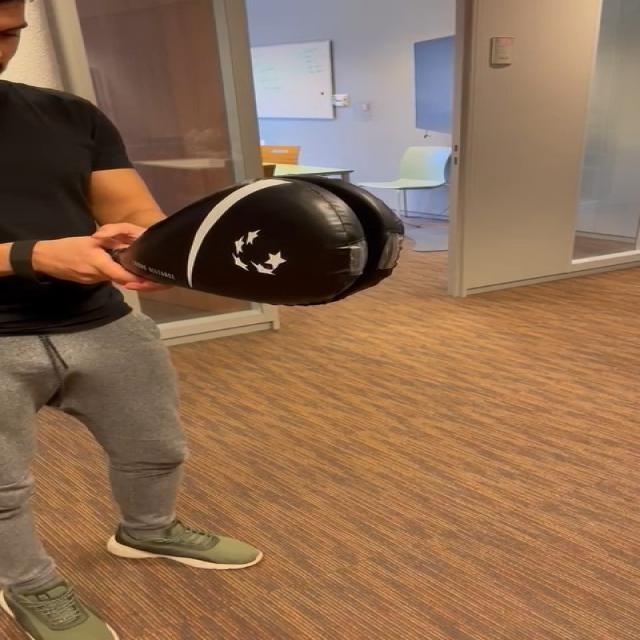paddle: (168, 182, 396, 303)
